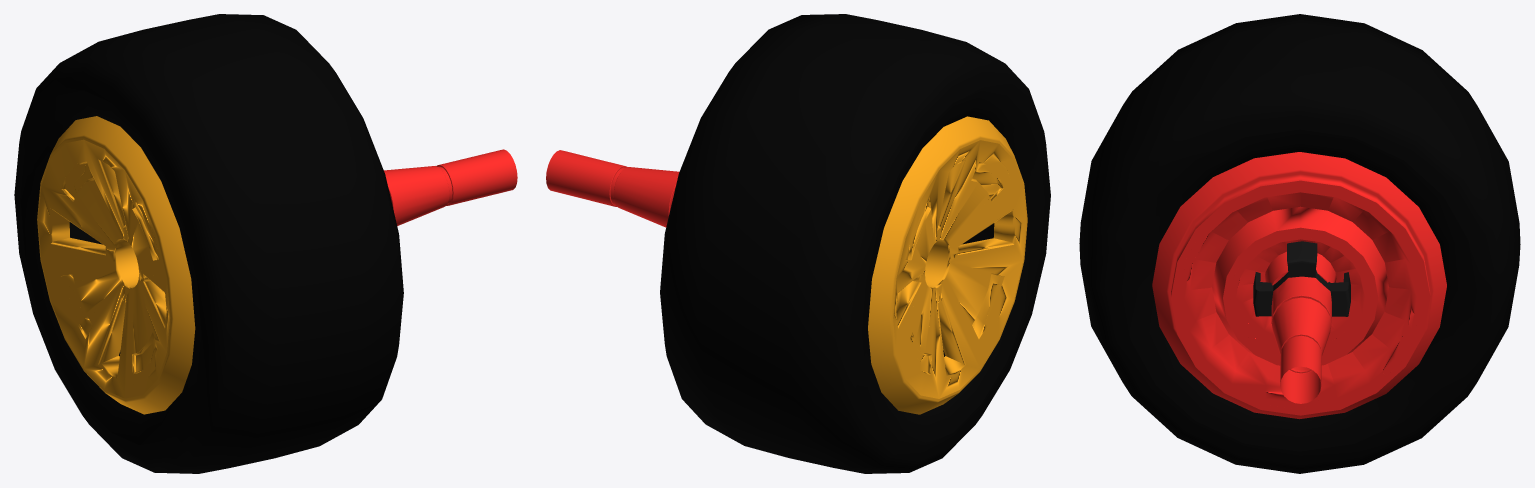
The model's file is Wheel_BR.obj.
3 views of the same model, side by side, from view 1: azimuth 30°, elevation 25°; view 2: azimuth 150°, elevation 25°; view 3: azimuth 270°, elevation 25° (orthographic). The views are drawn at different scales.
Parts seen in each view (by area): view 1: Wheel_BR; view 2: Wheel_BR; view 3: Wheel_BR.
Boxes of the visible parts, box(x1,y1,x2,y2) form: Wheel_BR: box(14, 14, 517, 473); Wheel_BR: box(546, 14, 1050, 473); Wheel_BR: box(1079, 14, 1520, 473).
Size of the model in its own units: 2.3 by 2.23 by 2.23.
